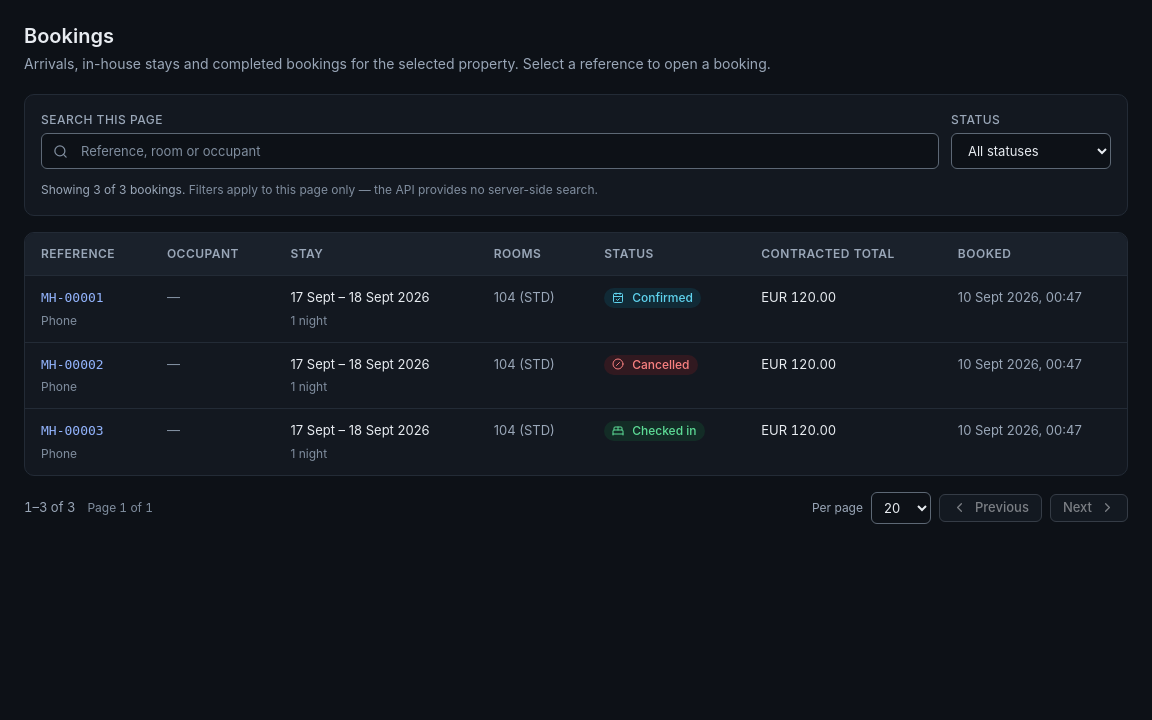
filtering › narrows by free text
This screenshot has width=1152, height=720.
Check: the link "MH-00001" is shown, box [41,288,104,308]
In the search field labelled "Search this page": (490, 151) [41,133,939,169], type "MH-00003"
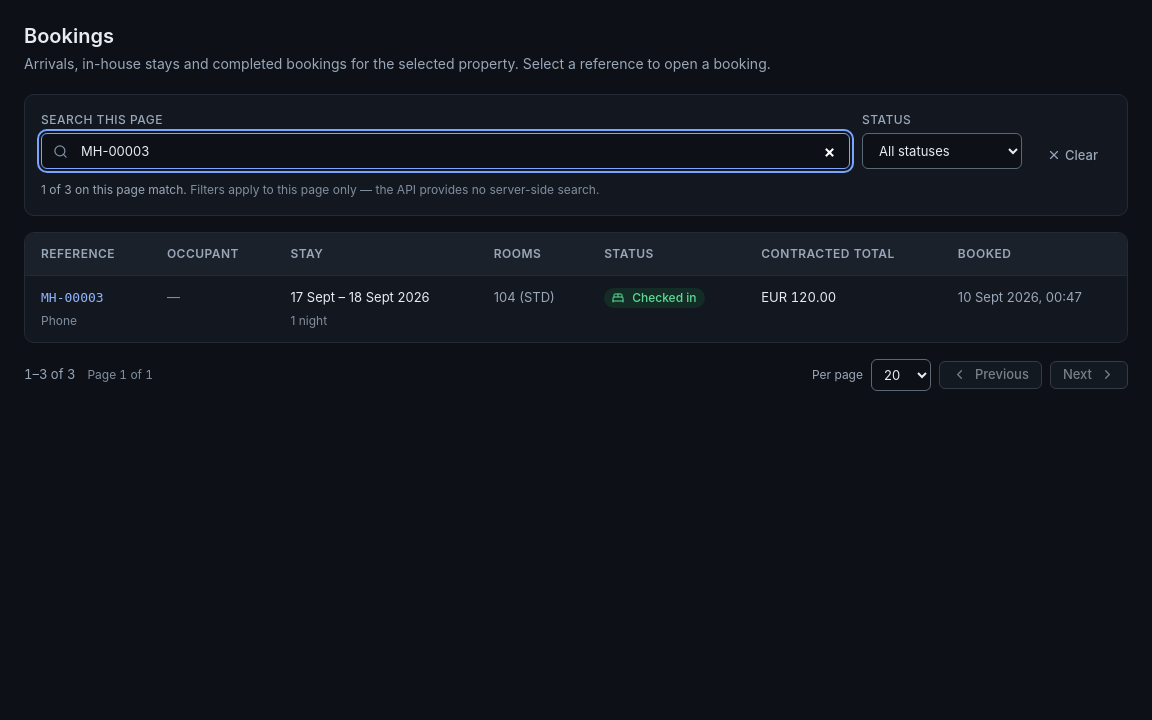
Check: the link "MH-00003" is shown, box [41,288,104,308]
Check: the link "MH-00001" is gone
